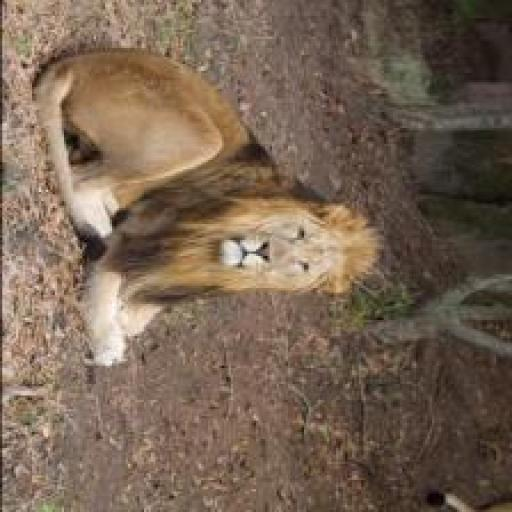lion: (21, 27, 402, 367)
